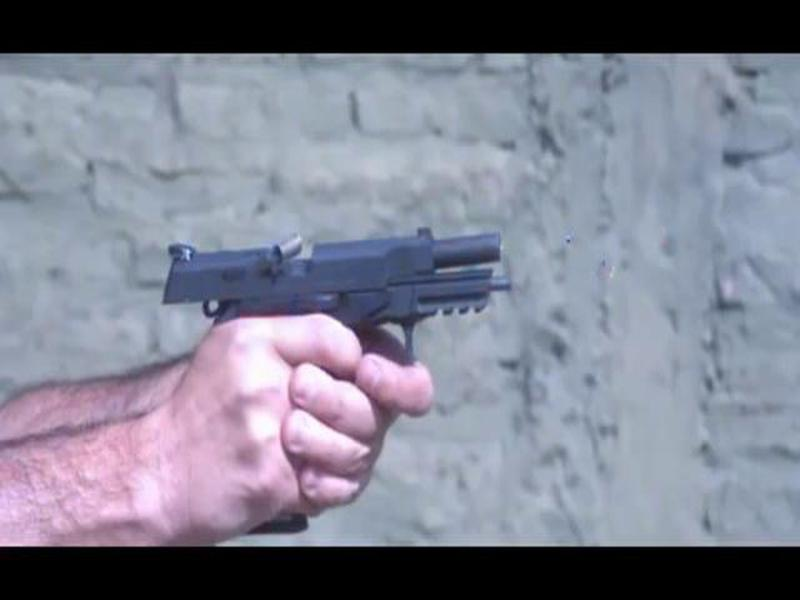Pistola: (151, 228, 527, 426)
